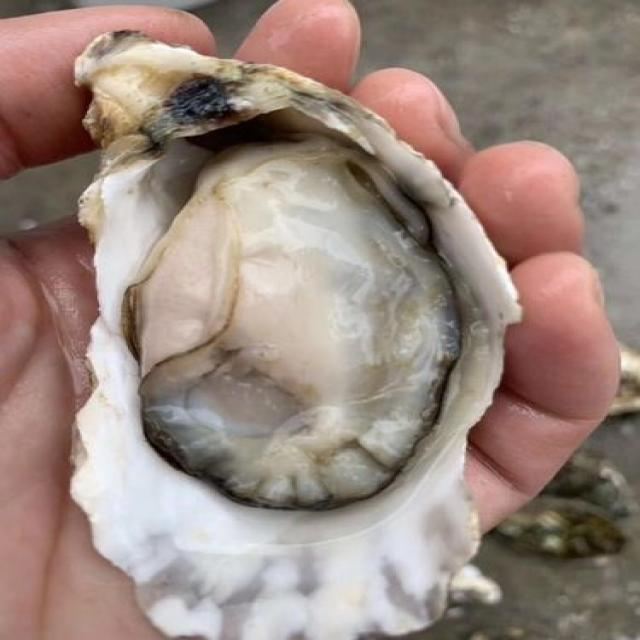Oyster- Indeterminate: (490, 493, 633, 567), (548, 443, 640, 520)
Oyster-Open: (72, 27, 532, 640)
